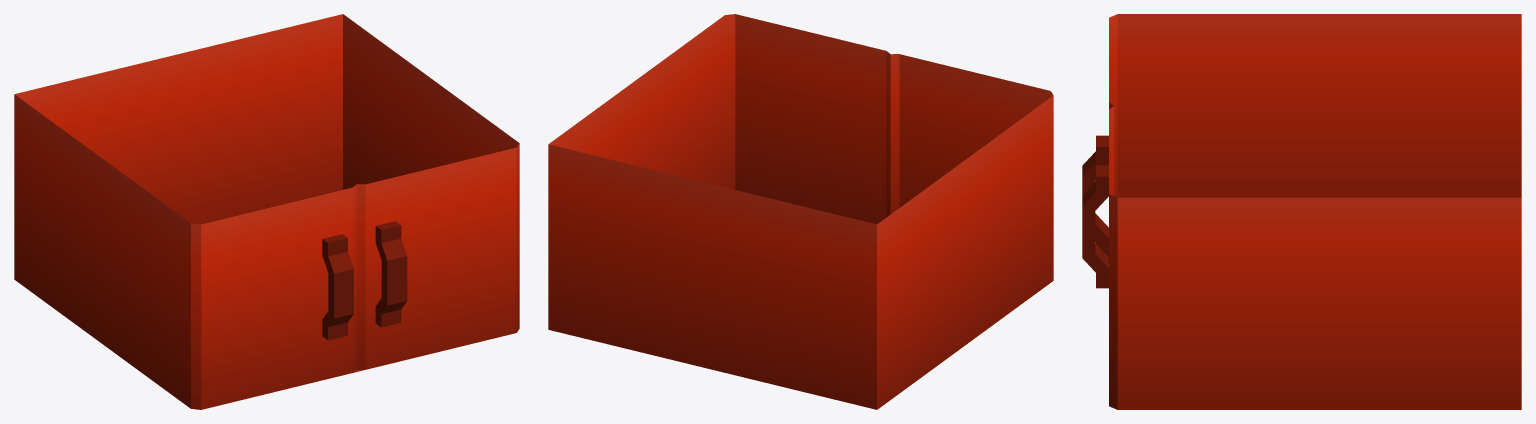
File: Counter_01_v05_C04.fbx
3 views of the same model, side by side, from view 1: azimuth 30°, elevation 25°; view 2: azimuth 150°, elevation 25°; view 3: azimuth 270°, elevation 25° (orthographic). The views are drawn at different scales.
Parts seen in each view (by area): view 1: Counter_01_v05_C04; view 2: Counter_01_v05_C04; view 3: Counter_01_v05_C04.
Boxes of the visible parts, x1=… form: Counter_01_v05_C04: x1=14, y1=14, x2=519, y2=409; Counter_01_v05_C04: x1=548, y1=14, x2=1053, y2=409; Counter_01_v05_C04: x1=1082, y1=14, x2=1521, y2=409.
Size of the model in its own units: 100 by 53.91 by 101.
